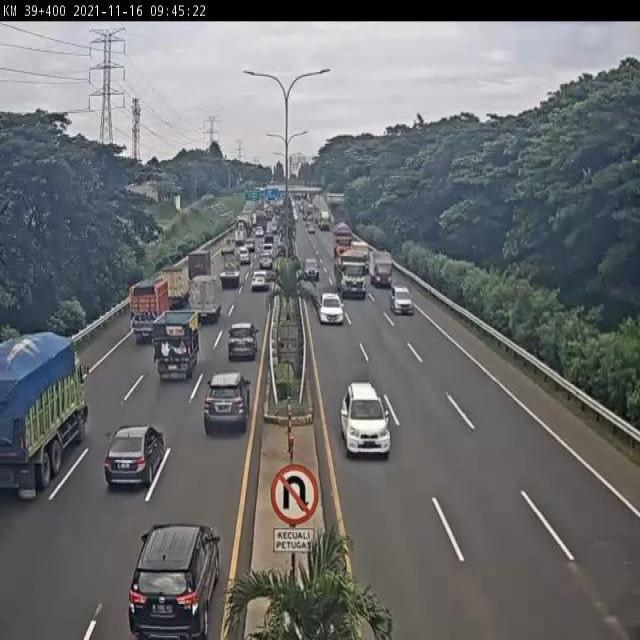ARABA: (122, 534, 218, 640), (101, 421, 166, 487), (339, 378, 392, 458), (198, 380, 247, 443), (225, 324, 256, 365), (390, 282, 415, 314), (319, 292, 343, 325), (250, 271, 271, 293), (304, 256, 320, 281), (234, 244, 251, 265), (258, 252, 273, 271)
KAMYONET: (154, 312, 199, 384), (132, 276, 170, 339), (188, 275, 222, 328), (157, 269, 185, 311), (186, 252, 211, 291), (217, 252, 242, 288)
TIR: (0, 334, 92, 490), (333, 244, 366, 299)
